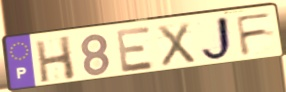8: (79, 32, 112, 77)
E: (114, 24, 157, 75)
F: (233, 10, 275, 58)
H: (33, 34, 78, 84)
J: (199, 15, 237, 63)
X: (155, 20, 198, 68)
